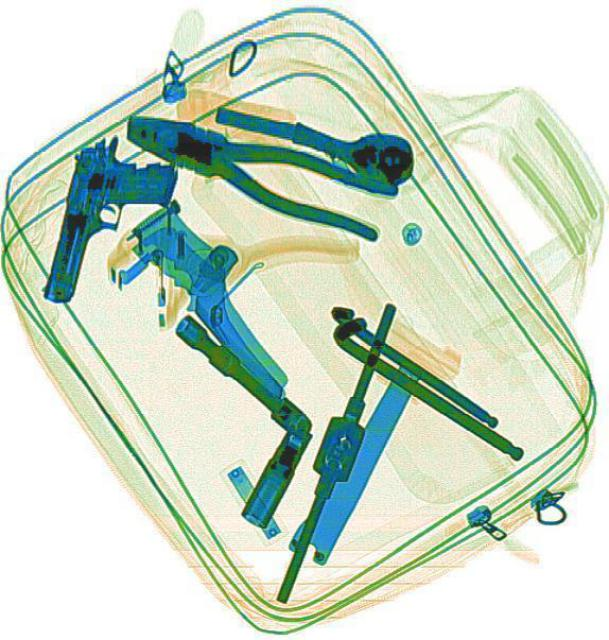Gun: (39, 128, 182, 318)
Pliers: (112, 97, 397, 243)
